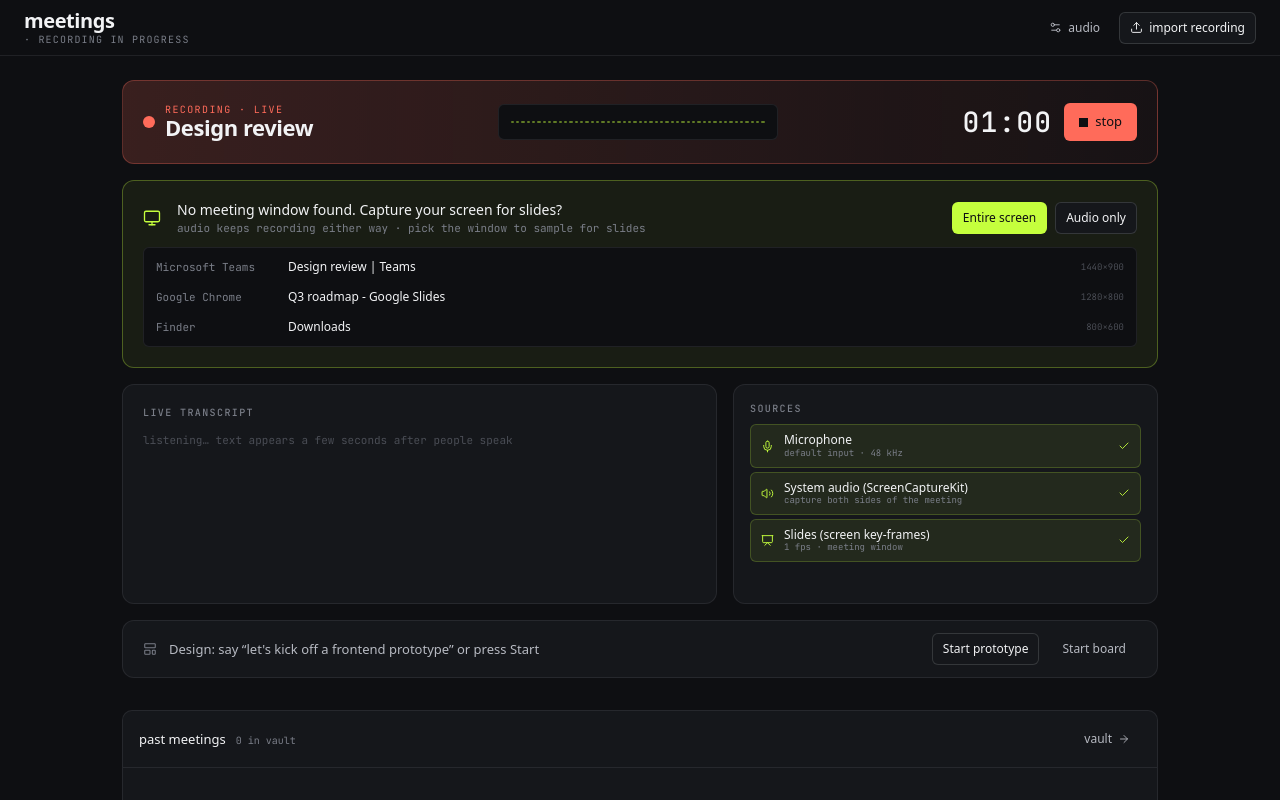
Test: meetings › no-meeting-window prompt › clicking "Entire screen" posts {choice: "display"} and hides the card
Click the button "Entire screen" at (1000, 218), box [952,202,1047,234]
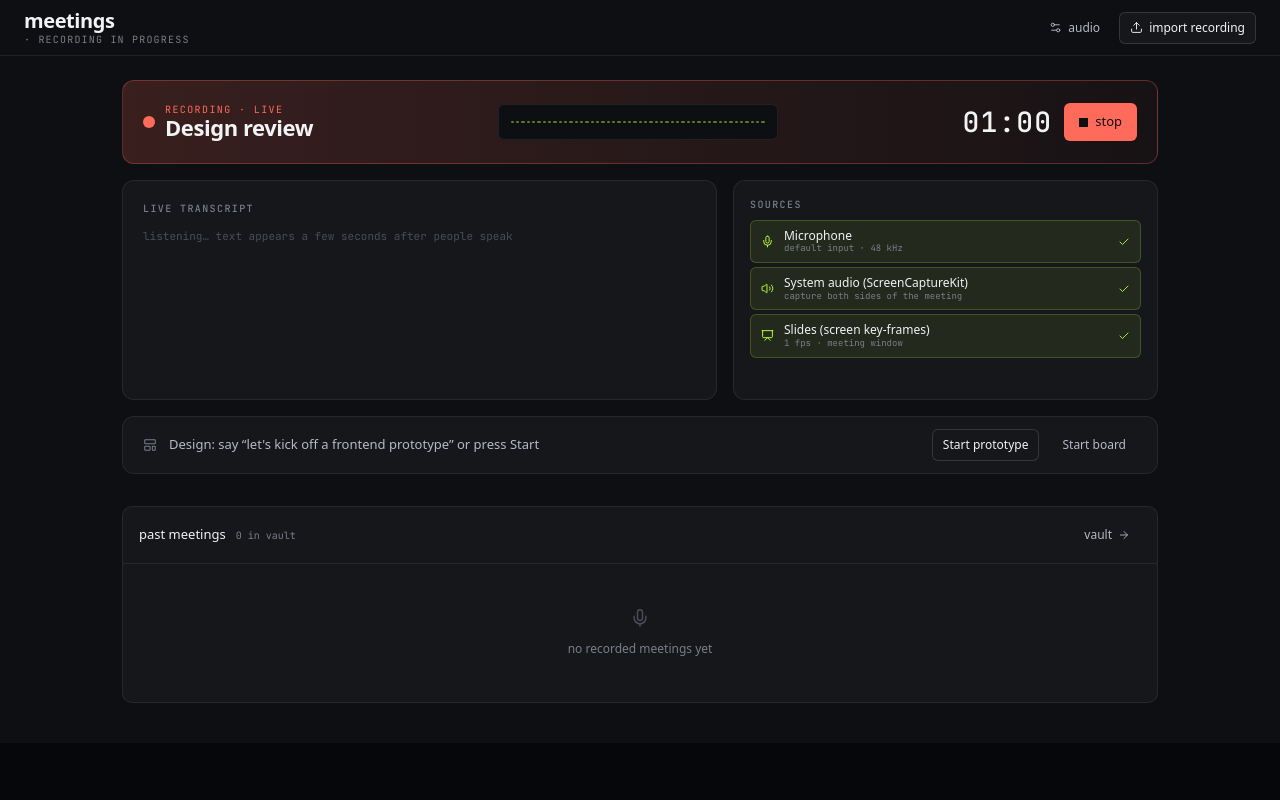
Result: the text "No meeting window found" is gone
